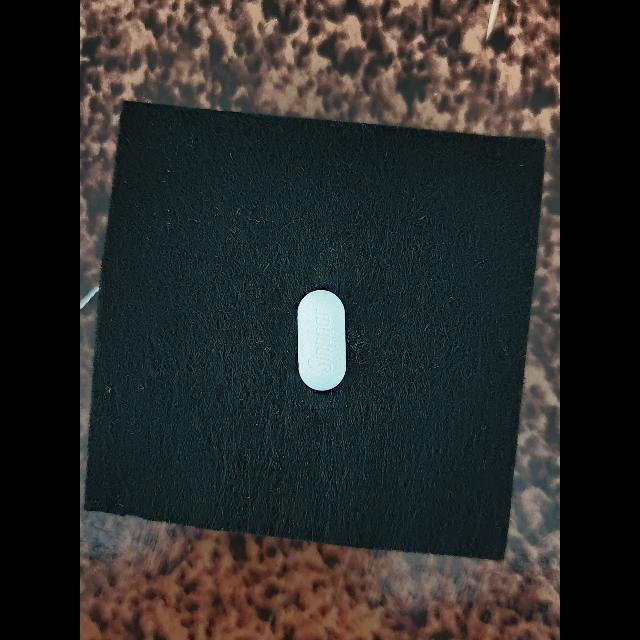Intact Pill: (297, 290, 346, 391)
